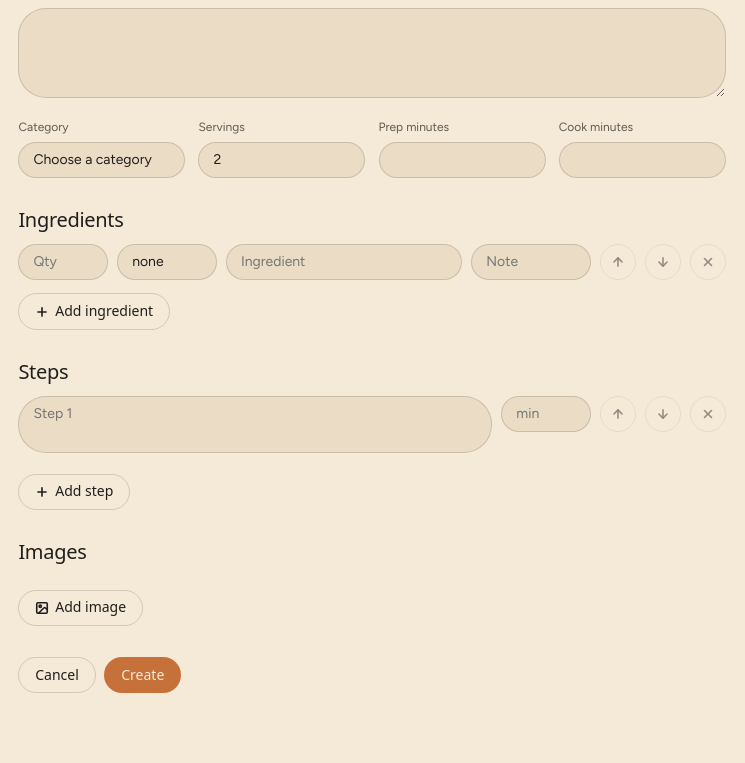
Test case: RecipeEditorScreen › UI-31 shows each required-field message under its own field, marks it aria-invalid and focuses the first
The width and height of the screenshot is (745, 763).
(page scrolled)
Click the button "Create". click: (143, 675)
box: [104,657,181,693]
(page scrolled)
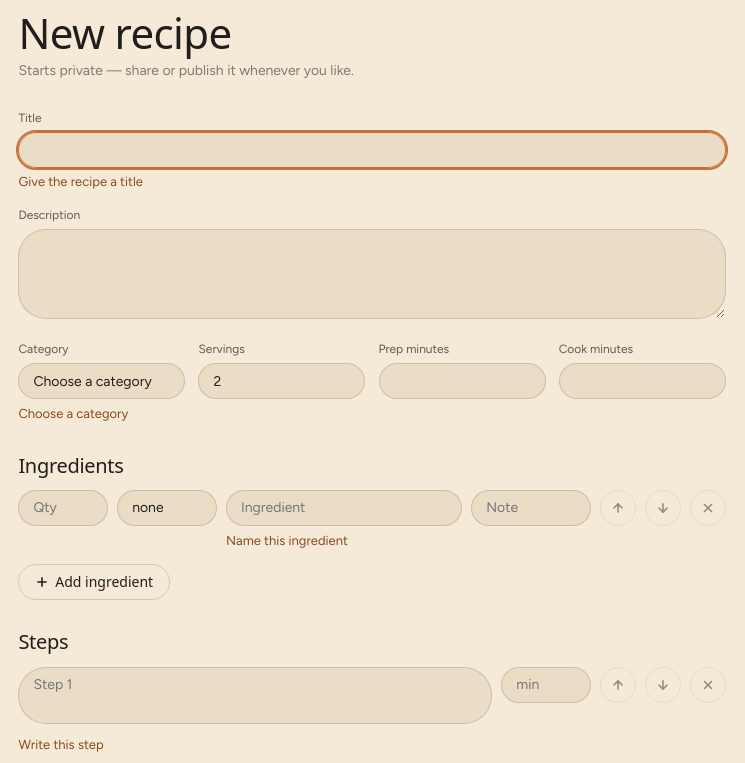
Expected: the text "Give the recipe a title" is shown, [18,174,143,190]
Expected: the message "Name this ingredient" is shown, [226,533,348,548]
Expected: the message "Write this step" is shown, [18,737,104,752]
